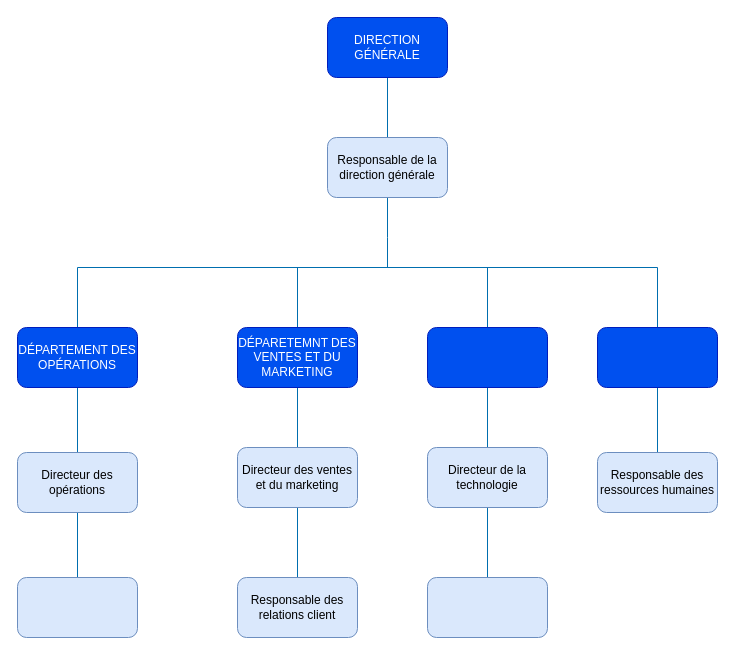
Image size: 735x655. Some labels were removed from this diagram. Each missing label, with the box of its shape:
Chef d'équipe: (16, 576, 138, 638)
DÉPARTEMENT DE LA TECHNOMOGIE ET DE L'INOVATOIN: (426, 326, 548, 388)
DÉPRTEMENT DES RESSOURCES HUMAINES: (596, 326, 718, 388)
Développeur et Administraateur système: (426, 576, 548, 638)
